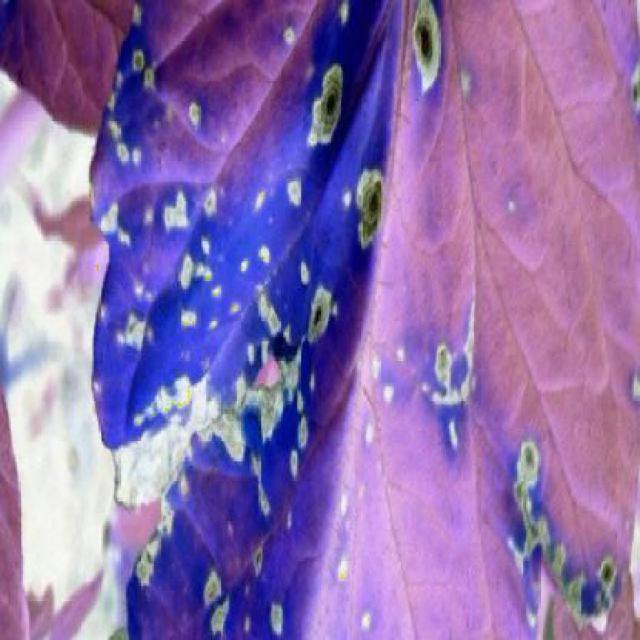Tomato Septoria spot leaf: (76, 5, 638, 638)
